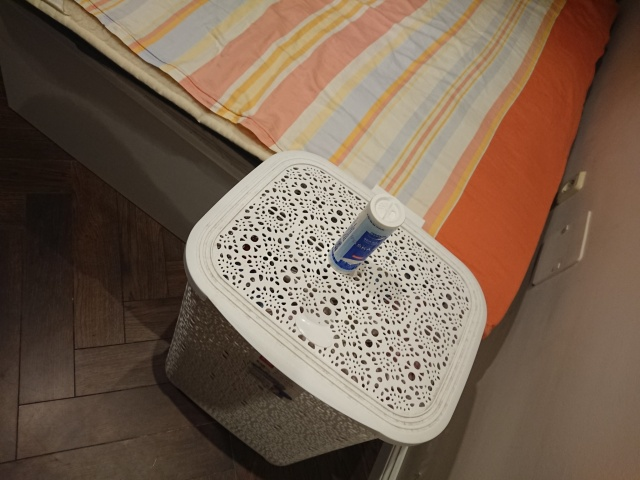Solana Pag Fine Sea Salt 250g: (325, 192, 409, 277)
